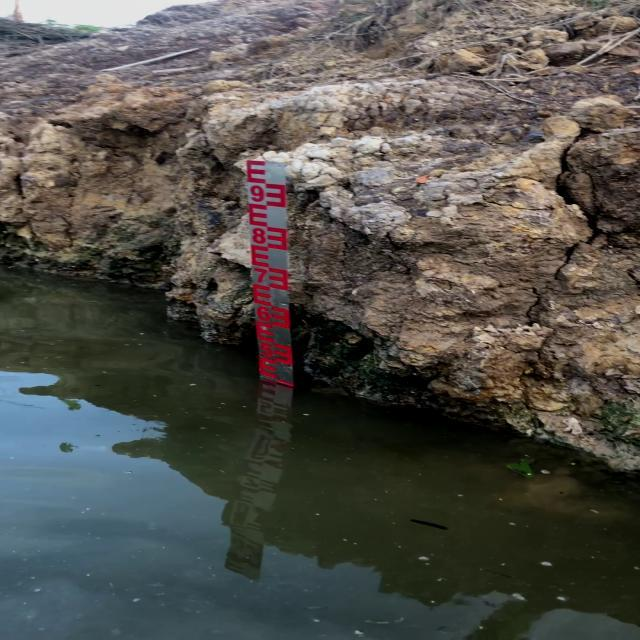ruler: (240, 147, 309, 382)
value: (246, 179, 267, 206), (249, 225, 269, 249), (255, 301, 275, 325), (252, 266, 272, 288), (259, 341, 277, 359)
